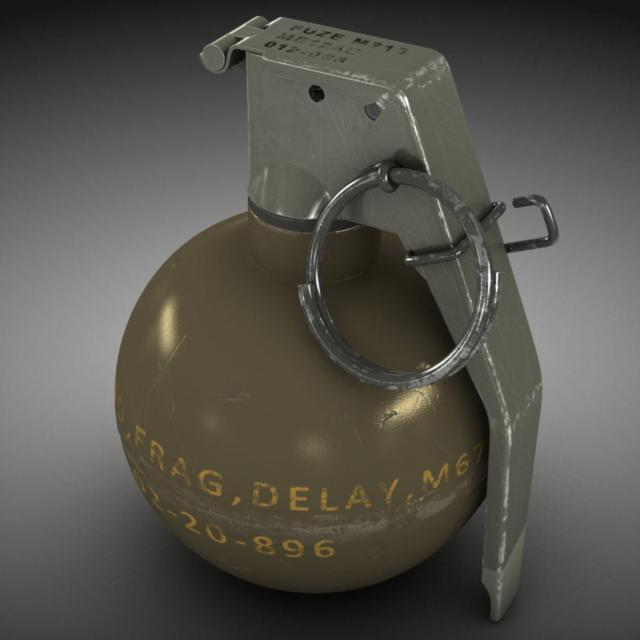grenade: (115, 15, 557, 621)
